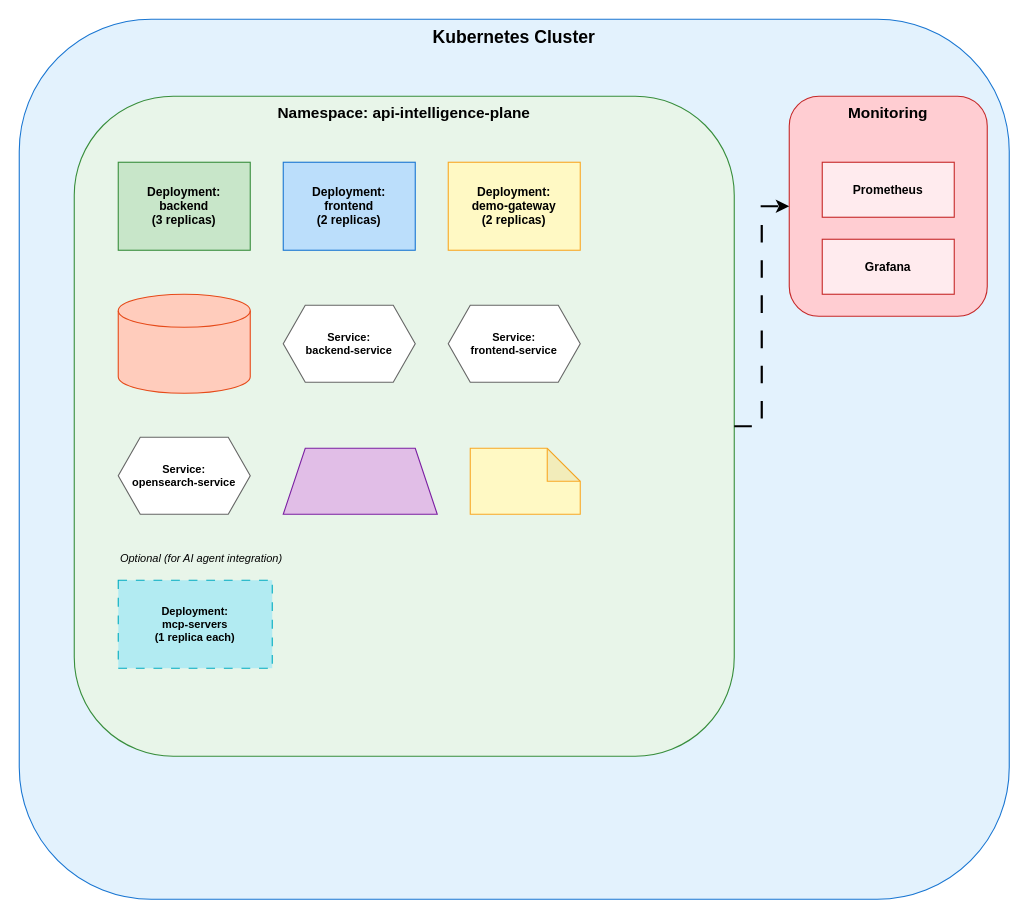
This 1029x919 diagram has some shape labels left out. The shapes that lost their labels are listed below. From the top down, each one's centre as x and y in pixels, then its label:
At [183,343]: "StatefulSet: opensearch (3 nodes)".
At [359,480]: "Ingress: api-intelligence-ingress".
At [524,480]: "ConfigMap: app-config".
